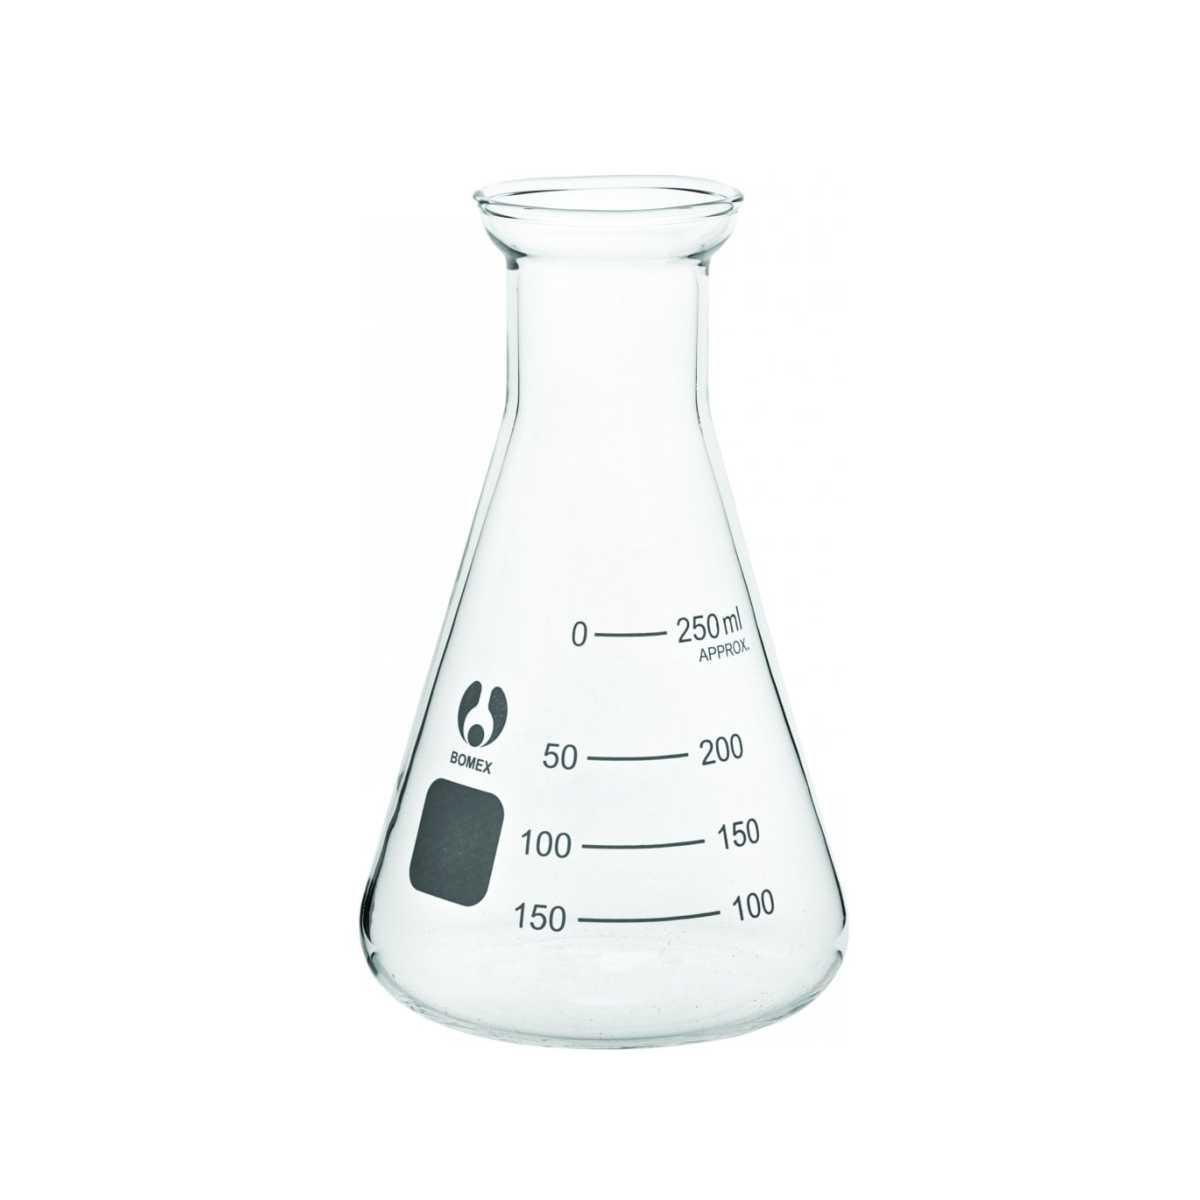Titrarion: (366, 154, 847, 1044)
